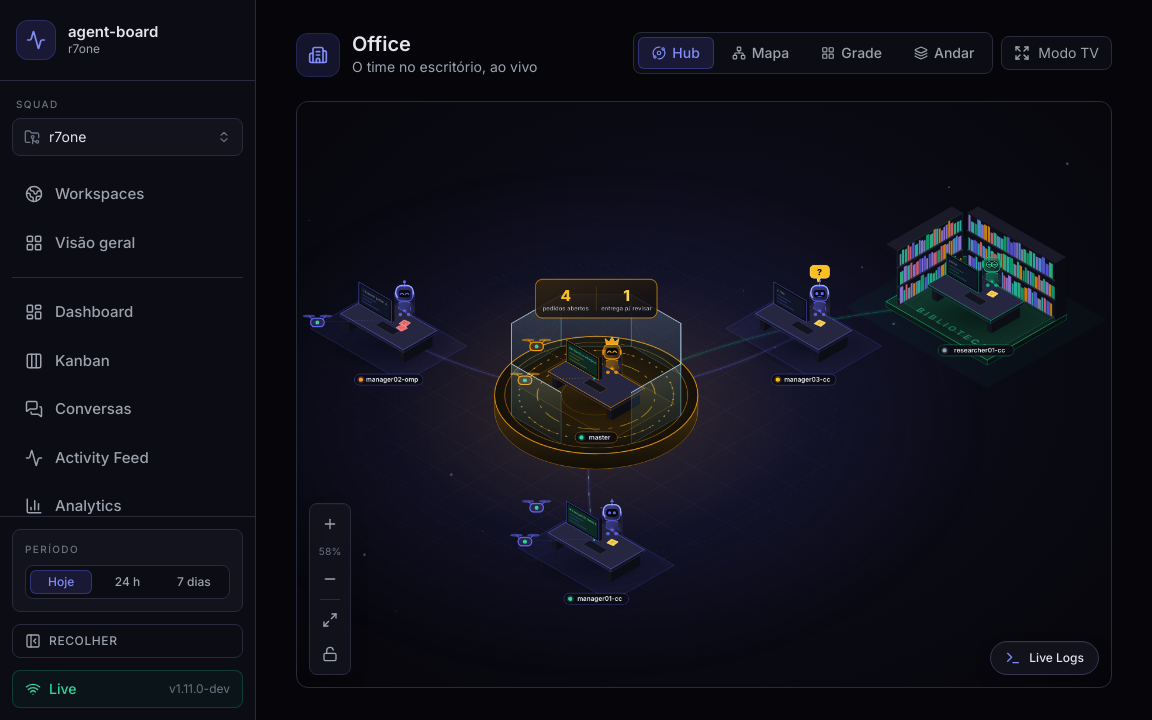
it: Office, modos, TV e Live Logs › troca de modo e guarda em ?modo=
The width and height of the screenshot is (1152, 720).
Step 1. Click the radio button labelled "Mapa" → (761, 53), box [718,37,803,69]
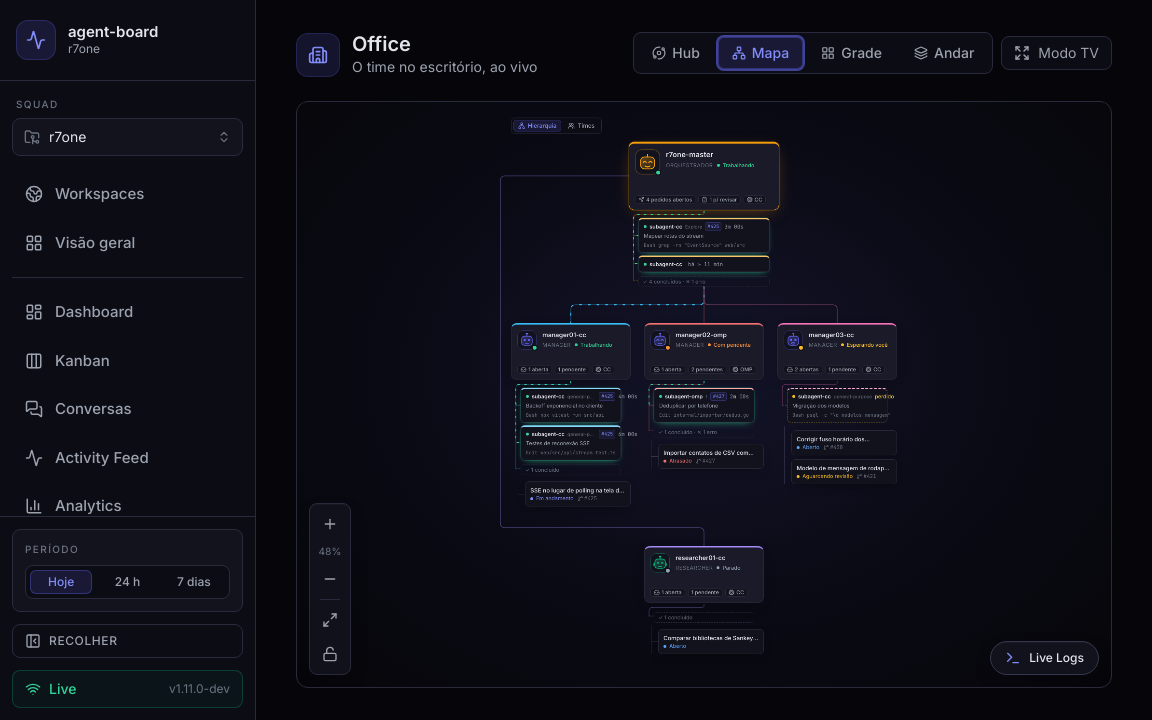
Expected: the icon with test id "hub-svg" is gone
Step 2. Click the radio button labelled "Grade" → (852, 53), box [807,37,896,69]
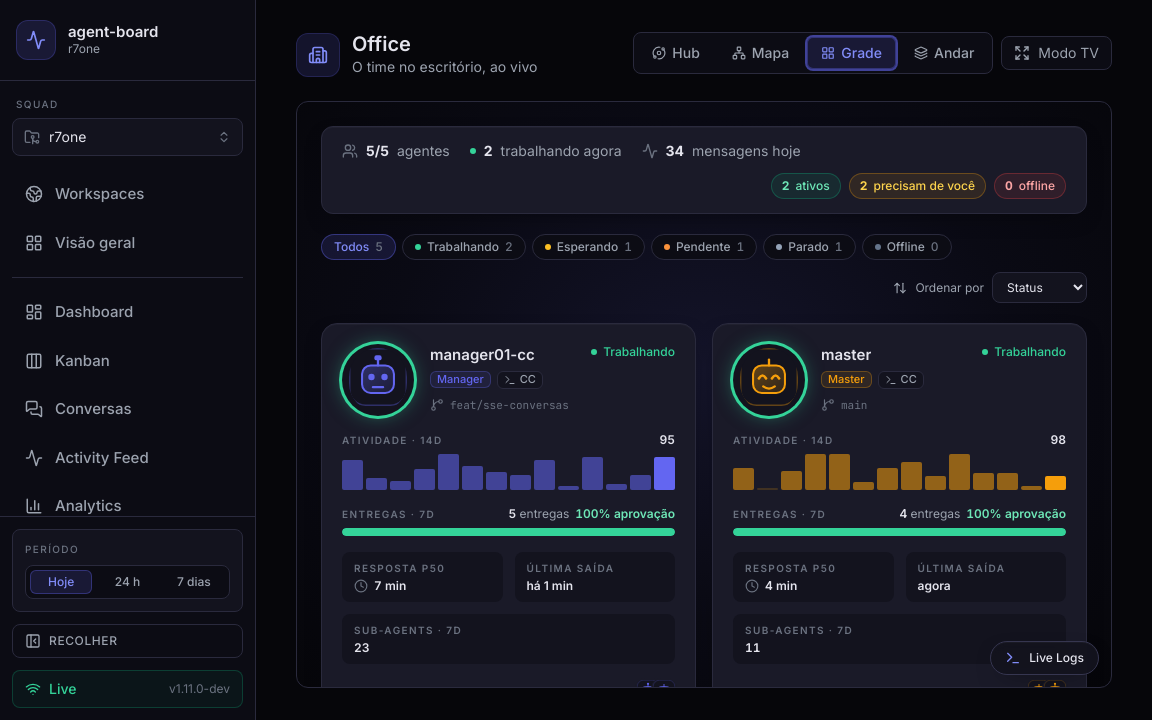
Expected: the element with test id "canvas-zoom" is gone
Step 3. Click the radio button labelled "Hub" → (676, 53), box [638,37,714,69]
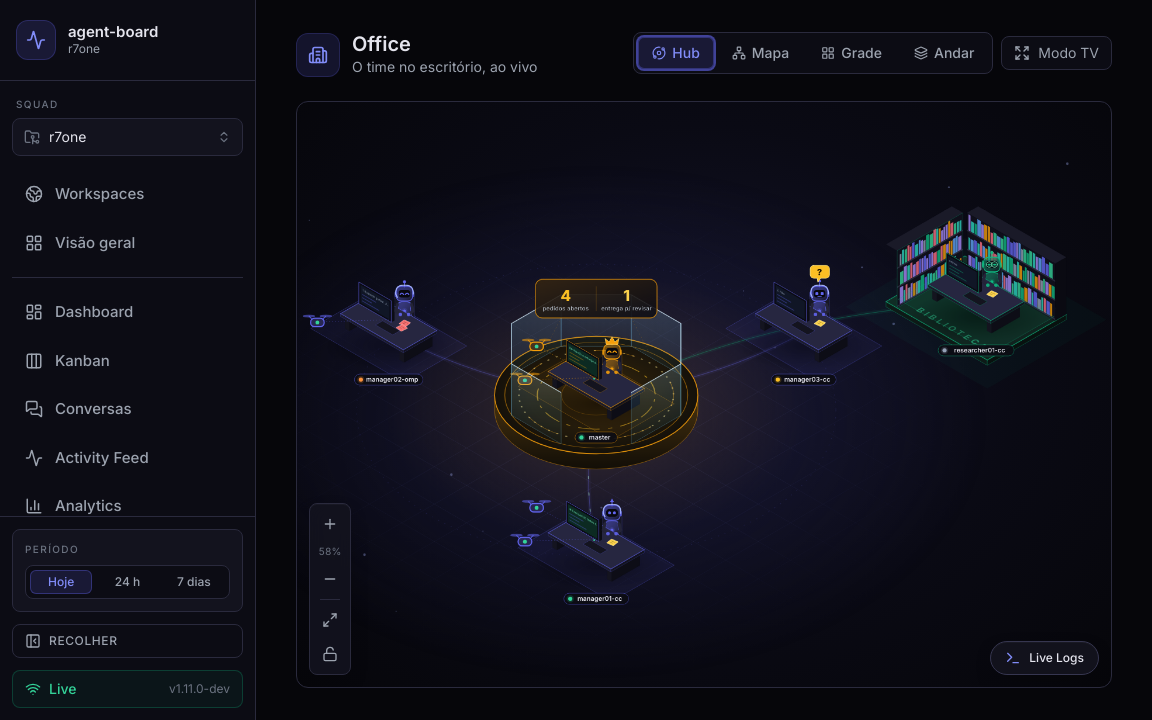
Expected: the element with test id "canvas-zoom" is shown, [297,102,1111,687]
